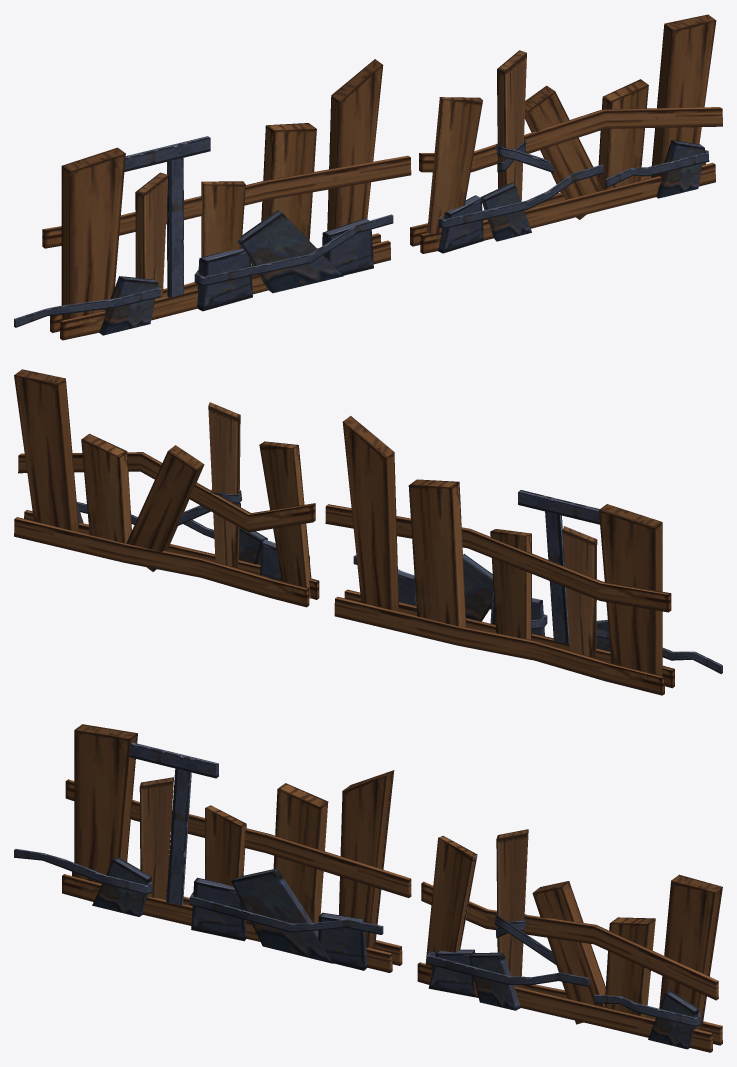
The model's file is 2_YiZhan_ZaWu_Zhalan_01.FBX.
3 renders of one model, top to bottom at view 1: azimuth 30°, elevation 25°; view 2: azimuth 150°, elevation 25°; view 3: azimuth 330°, elevation 25°, orthographic.
Visible parts, largest first — view 1: 2_YiZhan_ZaWu_Zhalan_01, 2_YiZhan_ZaWu_Zhalan_02; view 2: 2_YiZhan_ZaWu_Zhalan_01, 2_YiZhan_ZaWu_Zhalan_02; view 3: 2_YiZhan_ZaWu_Zhalan_01, 2_YiZhan_ZaWu_Zhalan_02.
Boxes of the visible parts, left/top/right/bottom form: 2_YiZhan_ZaWu_Zhalan_01: left=14, top=59, right=411, bottom=340; 2_YiZhan_ZaWu_Zhalan_02: left=410, top=14, right=722, bottom=253; 2_YiZhan_ZaWu_Zhalan_01: left=325, top=416, right=722, bottom=695; 2_YiZhan_ZaWu_Zhalan_02: left=14, top=369, right=319, bottom=607; 2_YiZhan_ZaWu_Zhalan_01: left=14, top=724, right=411, bottom=972; 2_YiZhan_ZaWu_Zhalan_02: left=417, top=829, right=722, bottom=1052.
Bounding box in the file's own units: 662 × 179 × 37.29.
Materials: 1 (1 with a texture image).
